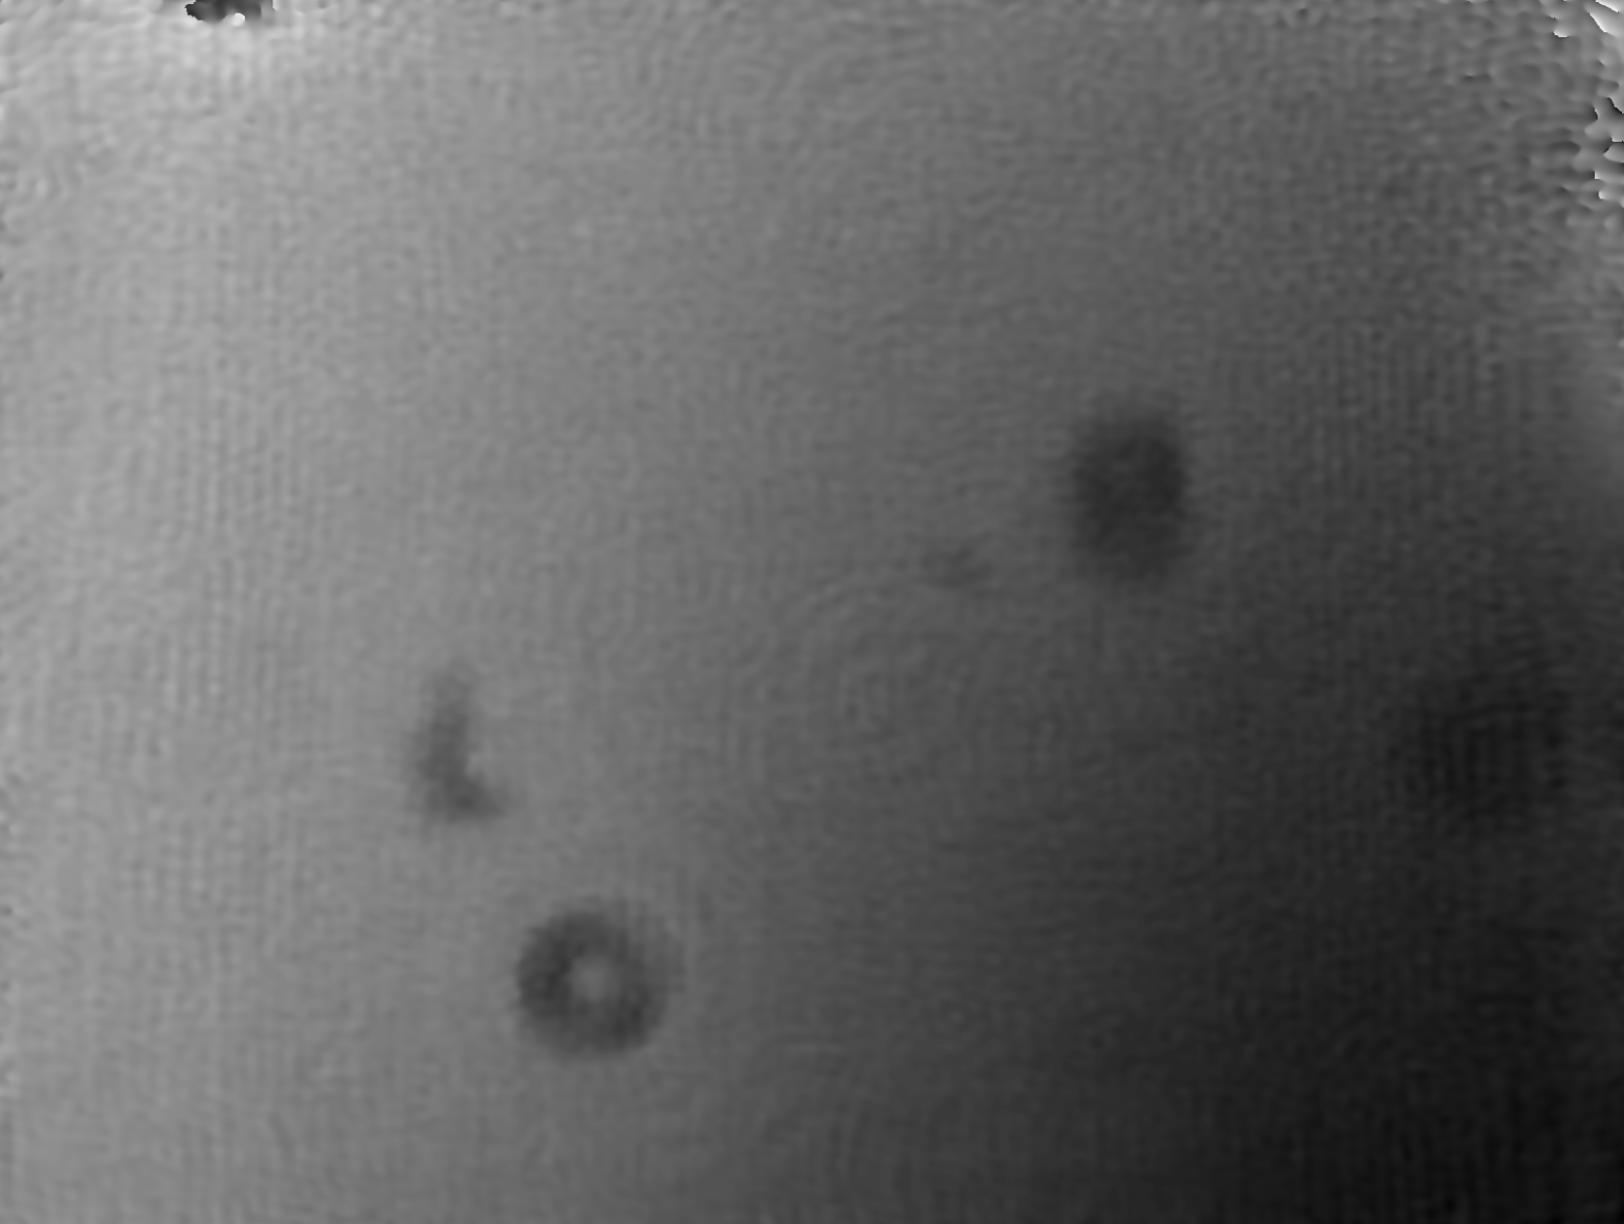cell: (1009, 360, 1251, 644), (474, 864, 712, 1099)
